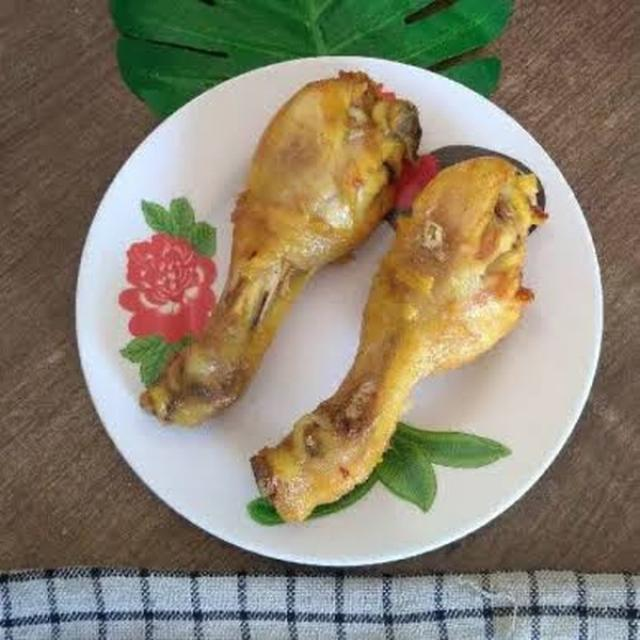CHICKEN FRY: (251, 151, 539, 523), (138, 75, 420, 425)
